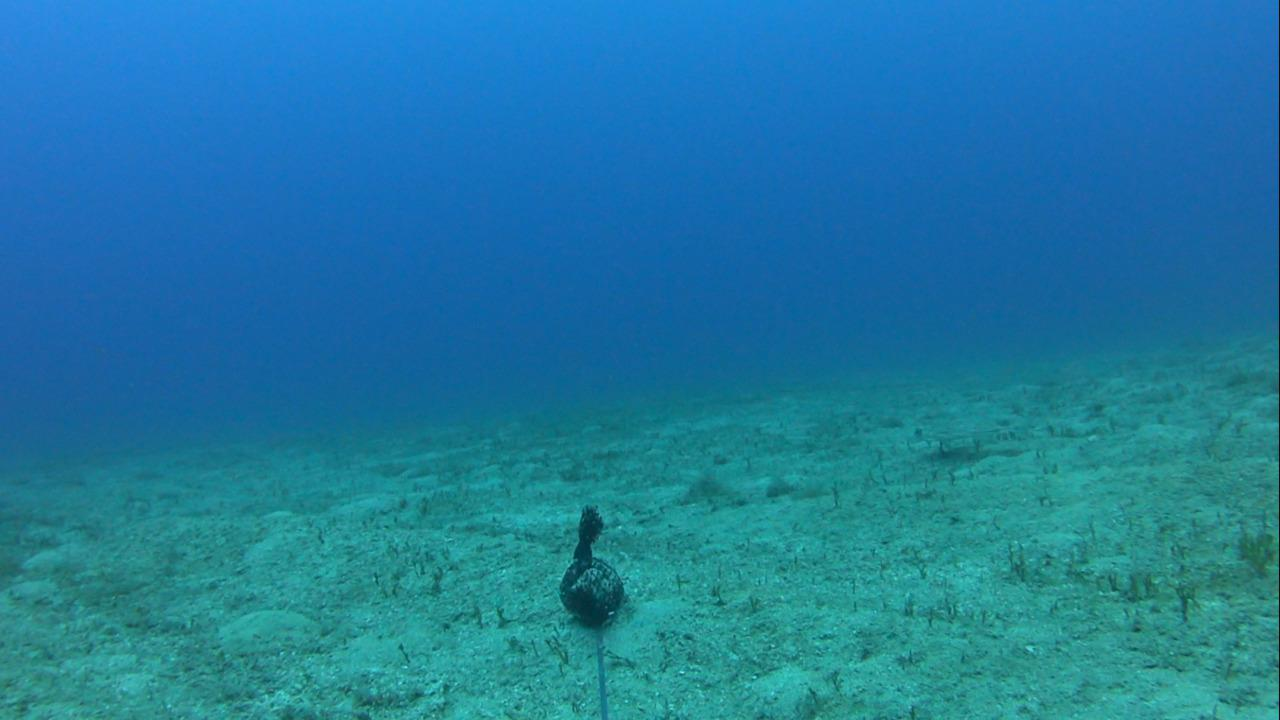dactylopterus: (897, 421, 1055, 455)
